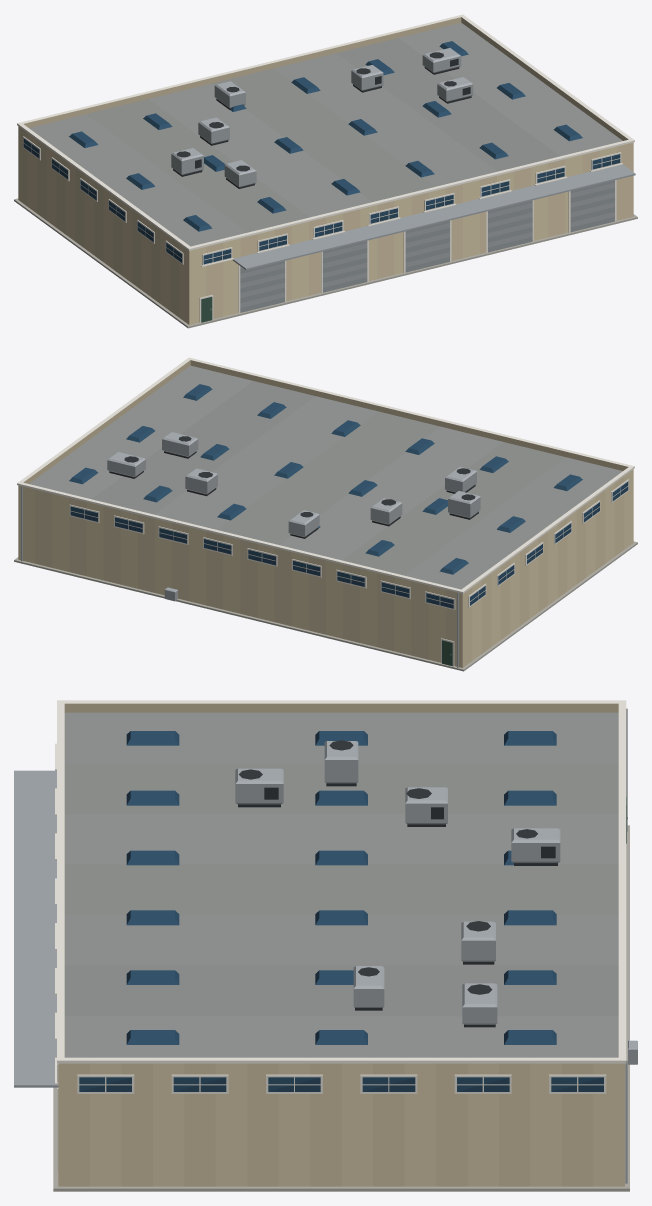
Rendered from hall_42x28.glb.
The picture shows the model from 3 angles, top to bottom: view 1: azimuth 30°, elevation 25°; view 2: azimuth 150°, elevation 25°; view 3: azimuth 270°, elevation 25°; orthographic projection. The views are drawn at different scales.
Parts seen in each view (by area): view 1: block; view 2: block; view 3: block.
Boxes of the visible parts, box(x1,y1,x2,y2) form: block: box(14, 14, 637, 328); block: box(14, 357, 637, 671); block: box(14, 700, 637, 1191).
Size of the model in its own units: 42.5 by 8.15 by 30.85.
